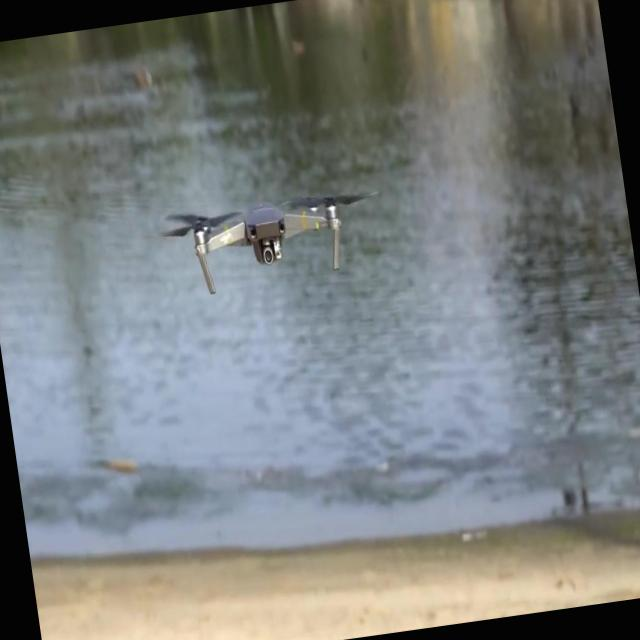drone: (159, 184, 393, 302)
